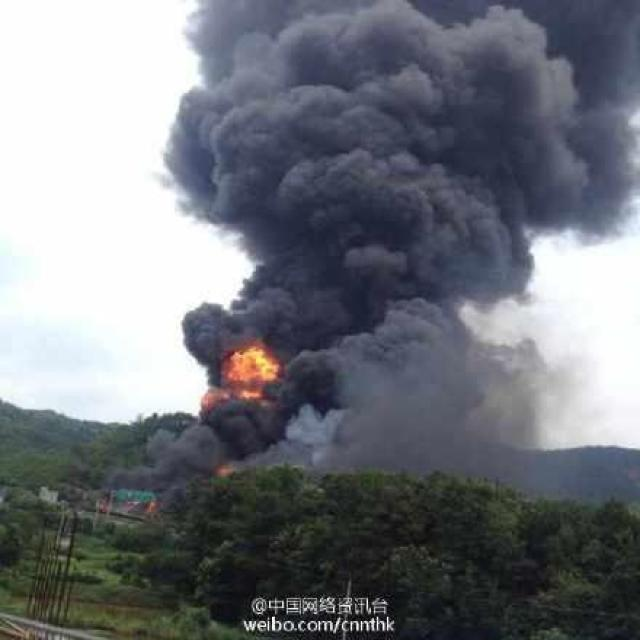Fire: (198, 343, 281, 410)
Smoke: (106, 1, 640, 494)
